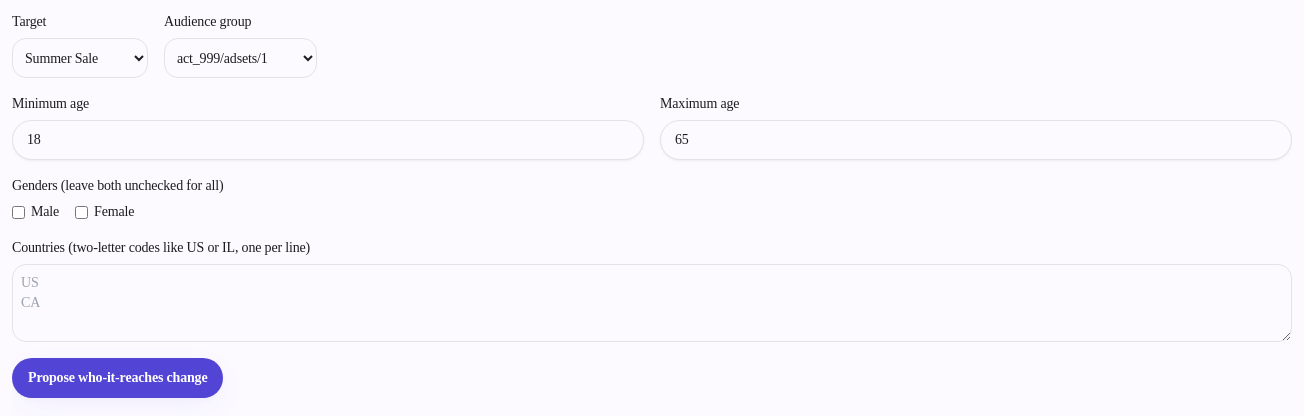
Scenario: AutomationProposeMetaAdSetTargetingEditForm › shows an inline error and does not submit when the min age exceeds the max age
Step 1. Type "US" into the text box labelled "Countries (two-letter codes like US or IL, one per line)" → (652, 303), box left=12, top=264, right=1292, bottom=342
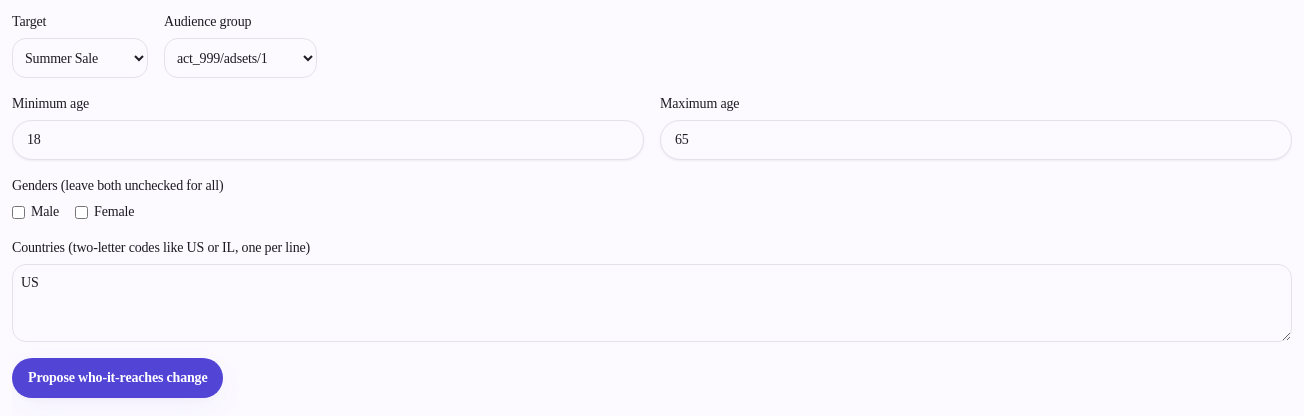
Step 2. Replace the text in the number field labelled "Minimum age" with "50" → (328, 140), box left=12, top=120, right=644, bottom=160
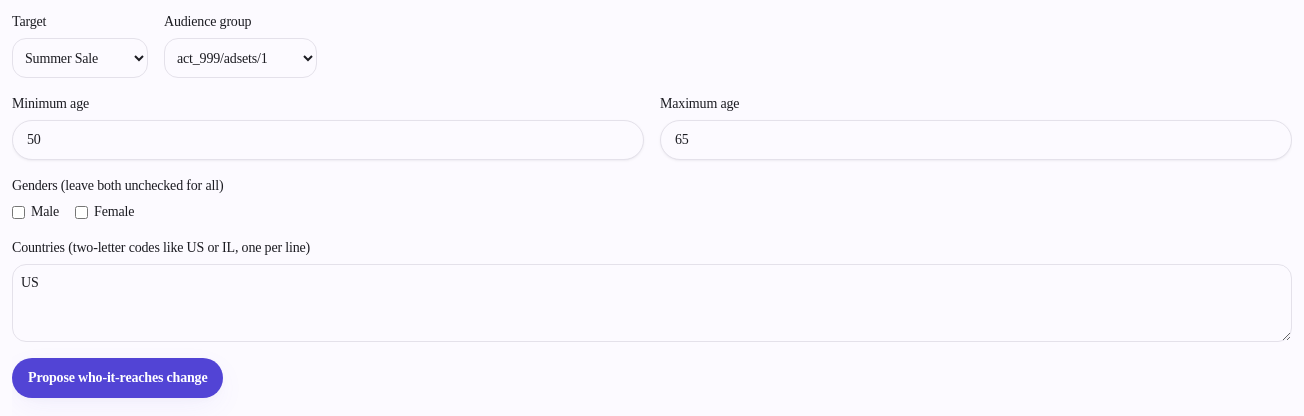
Step 3. Replace the text in the number field labelled "Maximum age" with "30" → (976, 140), box left=660, top=120, right=1292, bottom=160
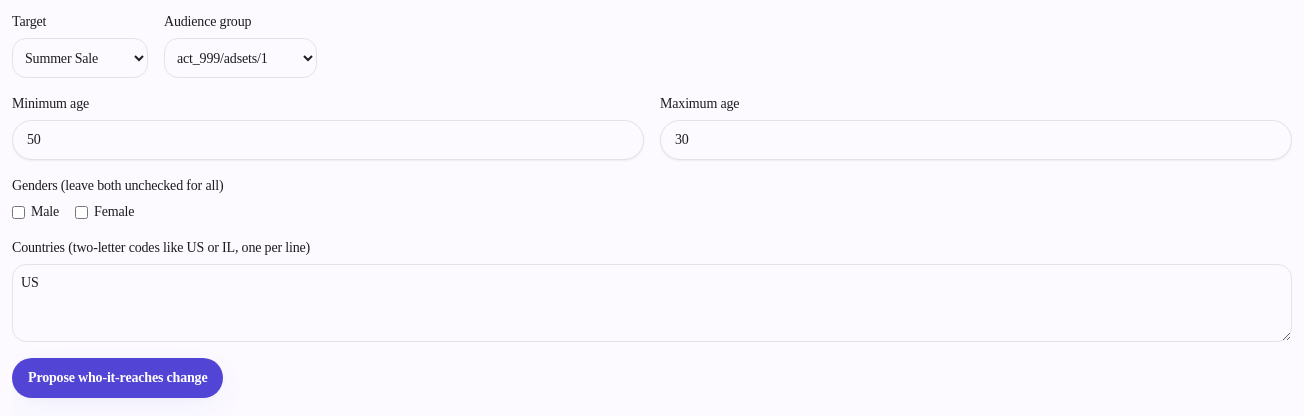
Step 4. Click the button "Propose who-it-reaches change" → (118, 378), box left=12, top=358, right=224, bottom=398
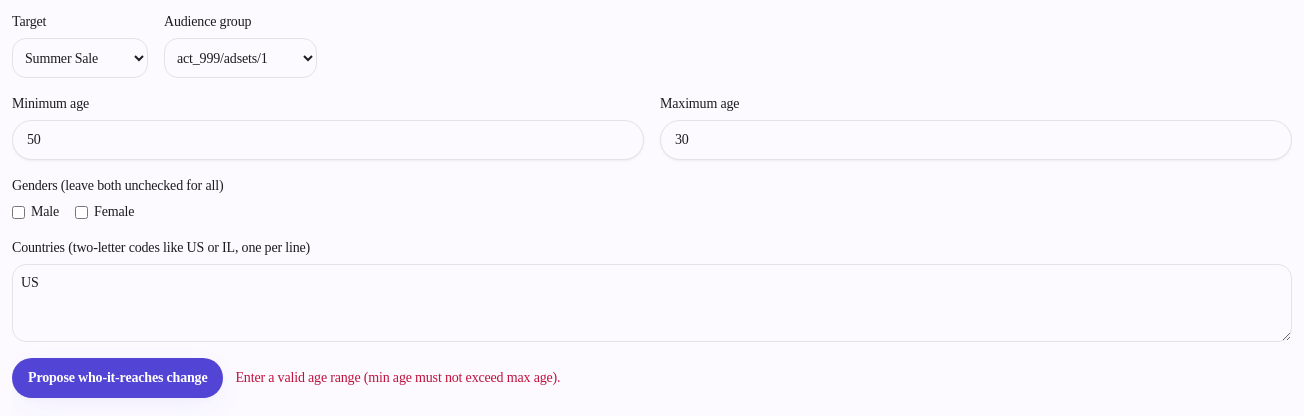
expect the message reads "Enter a valid age range (min age must not exceed max age).": met, box left=236, top=370, right=560, bottom=385
